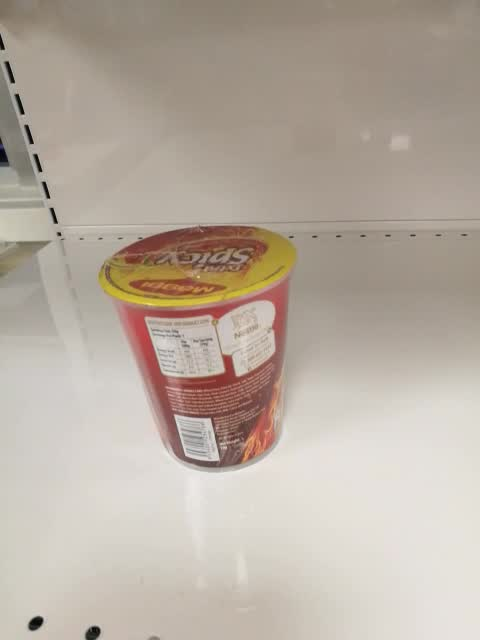maggi: (96, 225, 299, 474)
